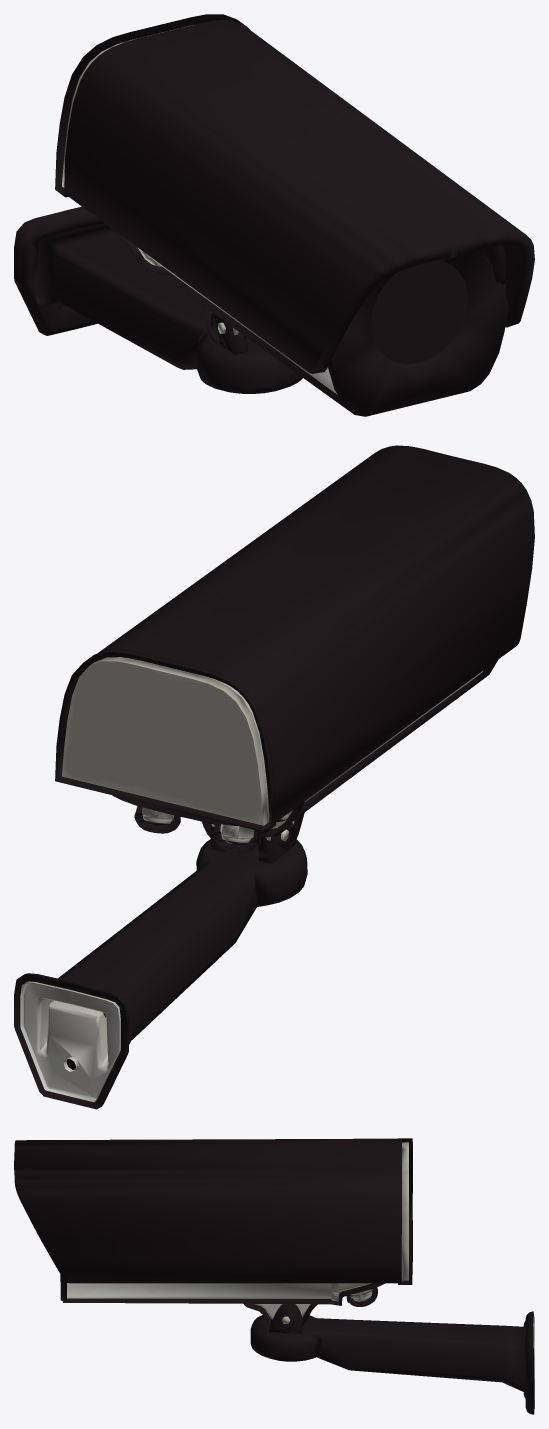
Rendered from SM_Int_SecurityCam.fbx.
3 views of the same model, one above another, from view 1: azimuth 30°, elevation 25°; view 2: azimuth 150°, elevation 25°; view 3: azimuth 270°, elevation 25° (orthographic). The views are drawn at different scales.
Parts seen in each view (by area): view 1: SM_Int_SecurityCam; view 2: SM_Int_SecurityCam; view 3: SM_Int_SecurityCam.
Boxes of the visible parts, <box> form: SM_Int_SecurityCam: <box>14,14,534,416</box>; SM_Int_SecurityCam: <box>14,445,534,1109</box>; SM_Int_SecurityCam: <box>14,1138,534,1414</box>.
Size of the model in its own units: 0.1769 by 0.2959 by 0.5586.
